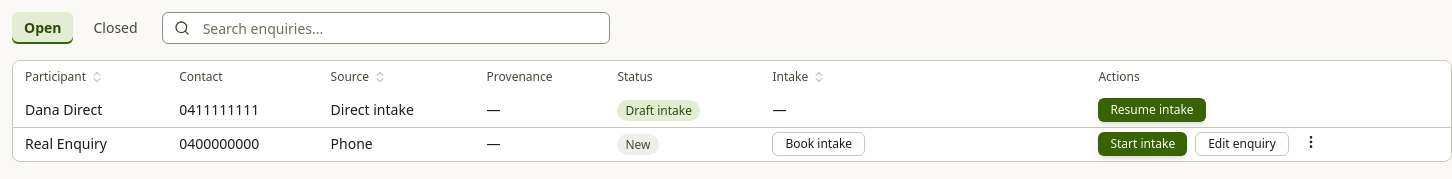
Test: InquiriesPage — a draft intake started without an enquiry › is found by the same search as an enquiry
The image size is (1452, 179).
Step 1. Type "dana" into the field labelled "Search enquiries..." → (386, 28), box x1=162 y1=12 x2=610 y2=44
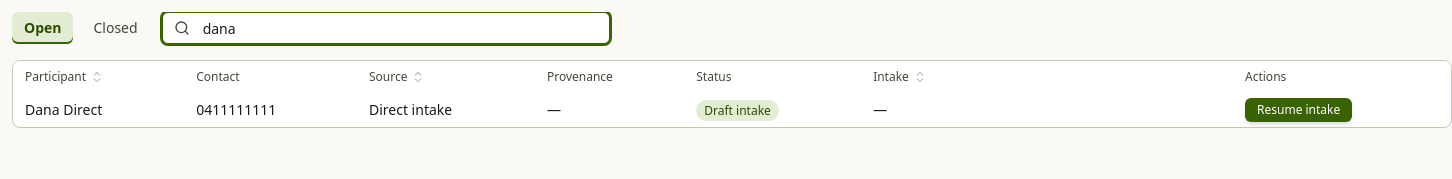
Check: the text "Dana Direct" is shown, box x1=13 y1=93 x2=184 y2=127
Check: the text "Real Enquiry" is gone
